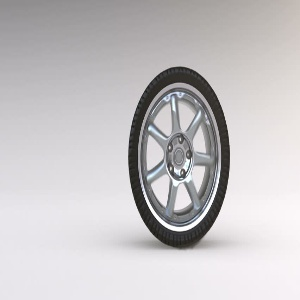tire: (128, 64, 230, 251)
